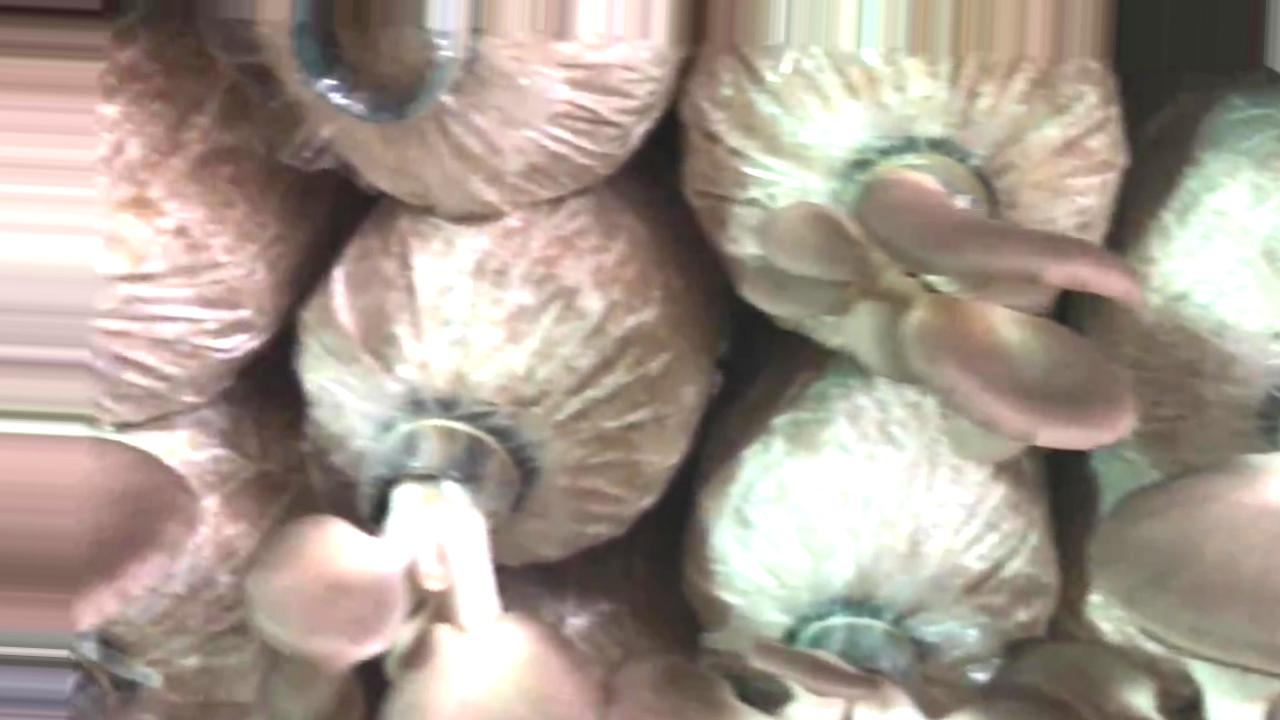nam: (756, 149, 1146, 453), (246, 392, 592, 720), (1099, 446, 1280, 678), (71, 434, 203, 637)
